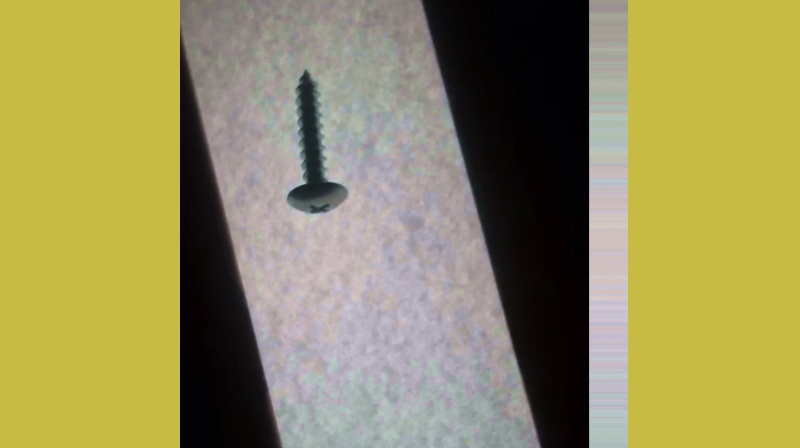S003: (283, 65, 349, 217)
